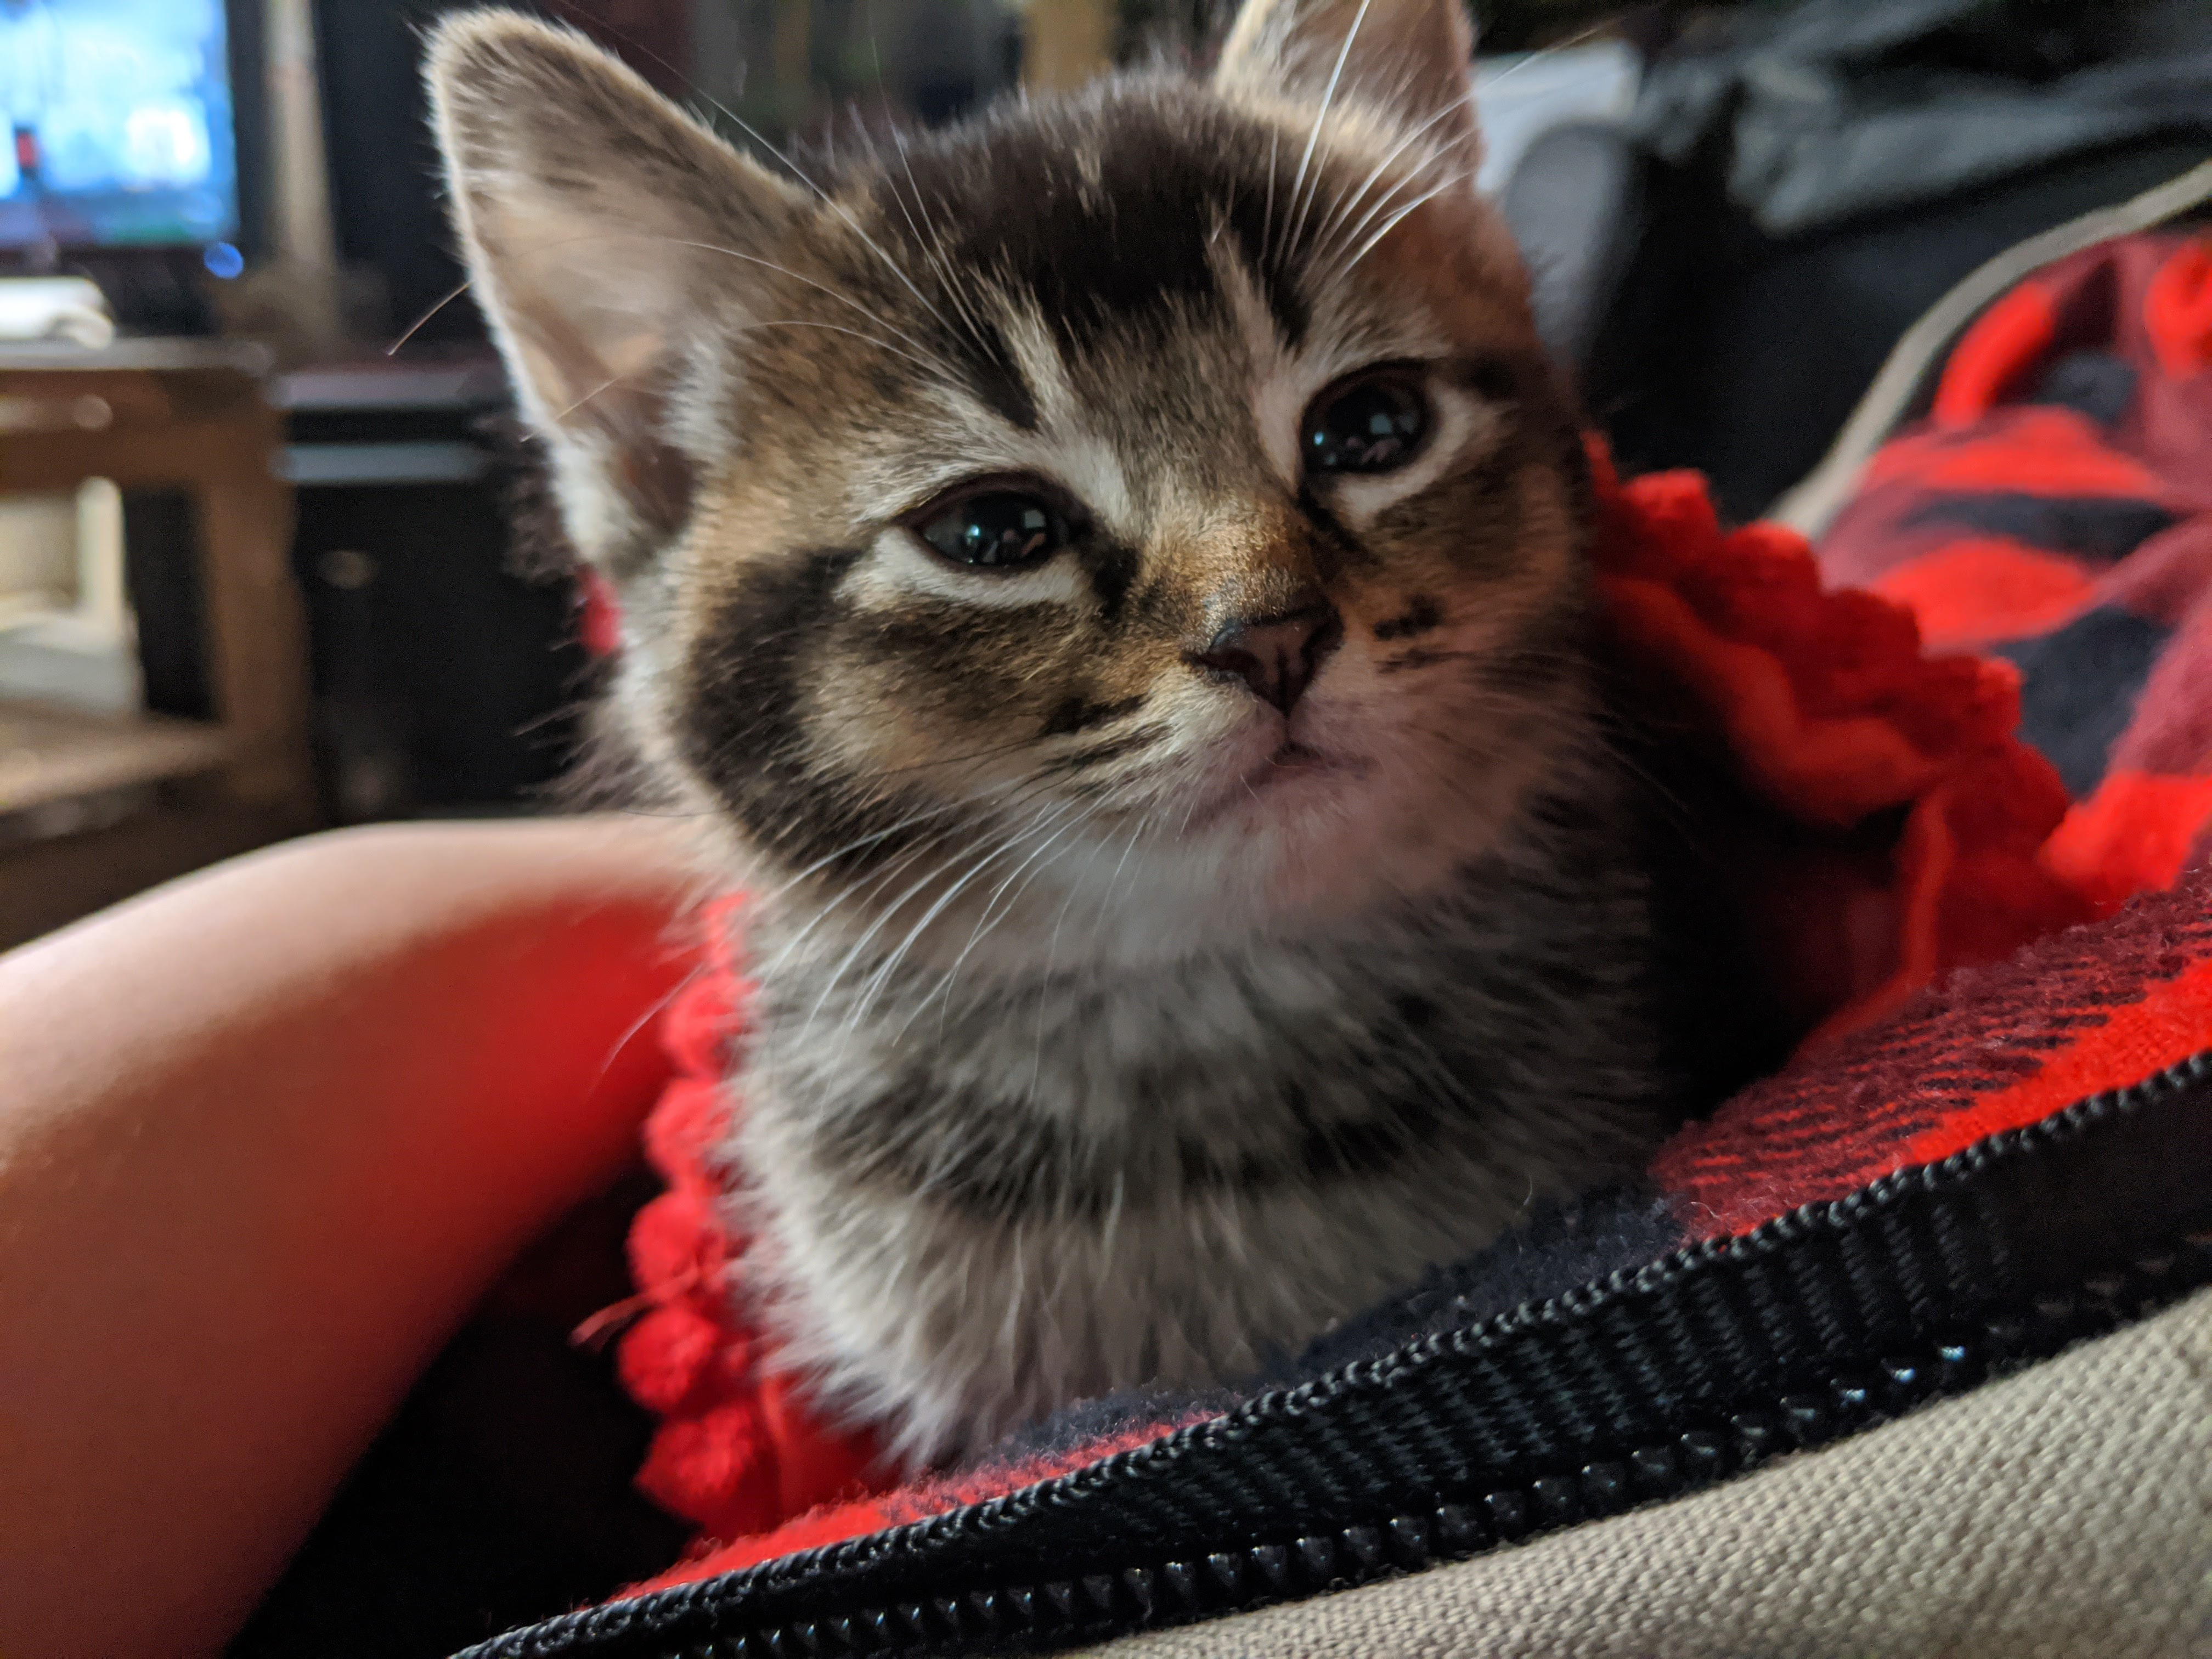luna: (404, 5, 1858, 1471)
